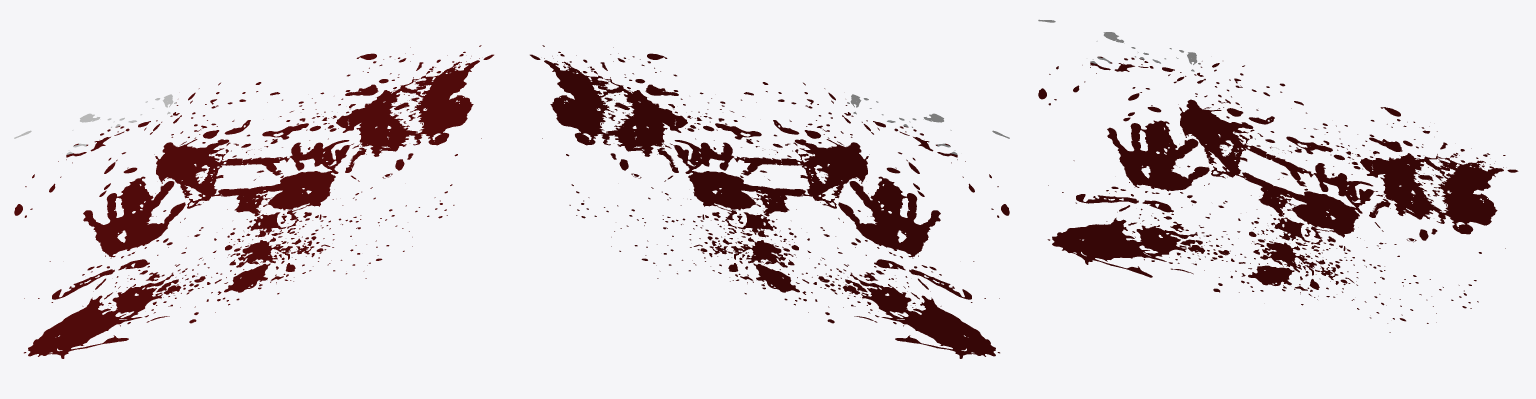
Rendered from 2x4_bloodstein_plane01.FBX.
3 views of the same model, side by side, from view 1: azimuth 30°, elevation 25°; view 2: azimuth 150°, elevation 25°; view 3: azimuth 330°, elevation 25° (orthographic).
Visible parts, largest first — view 1: Plane001; view 2: Plane001; view 3: Plane001.
Part boxes in pixels (box(x1,y1,x2,y2)): Plane001: box(14, 45, 493, 358); Plane001: box(530, 45, 1009, 358); Plane001: box(1038, 19, 1518, 332).
Bounding box in the file's own units: 400 × 200 × 8.74e-06.
1 material, 1 textured.
